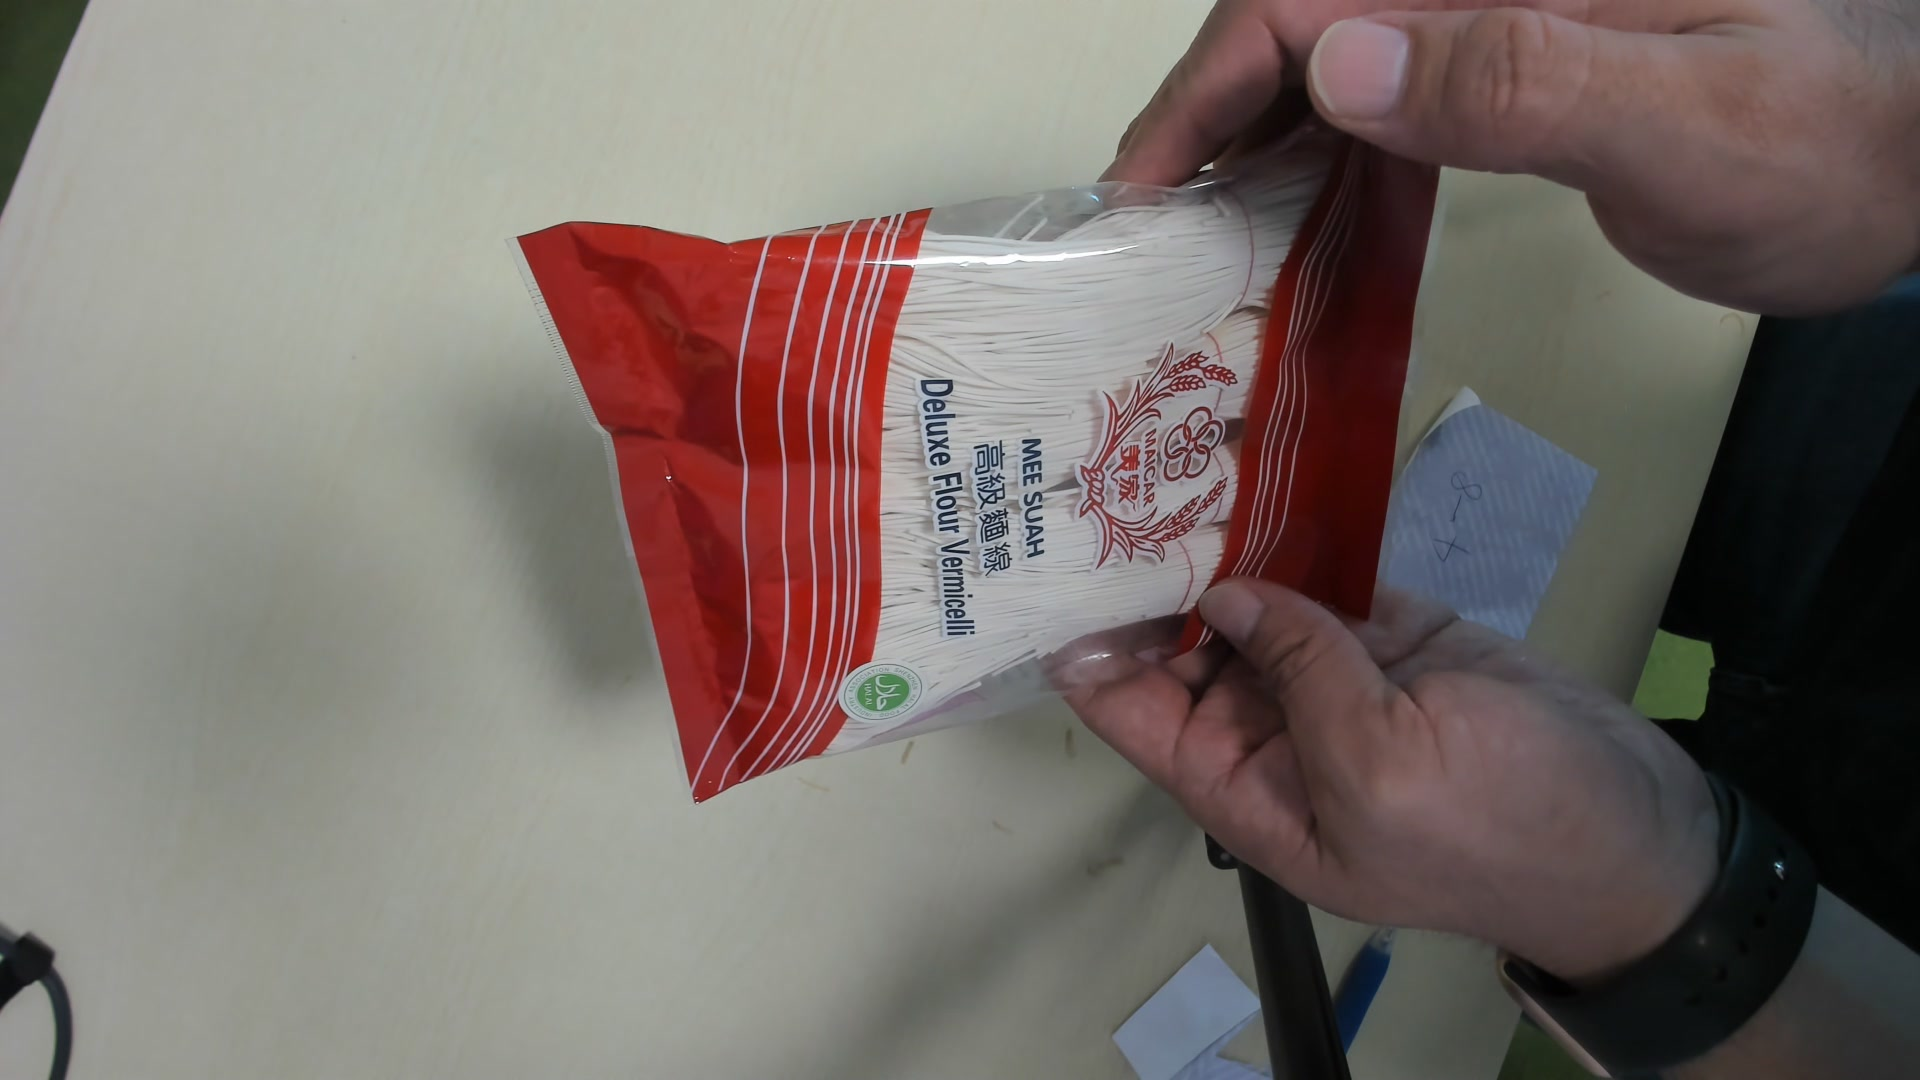BeeHoonVermicelli_100-199g_Halal_NonHealthy: (538, 128, 1386, 800)
